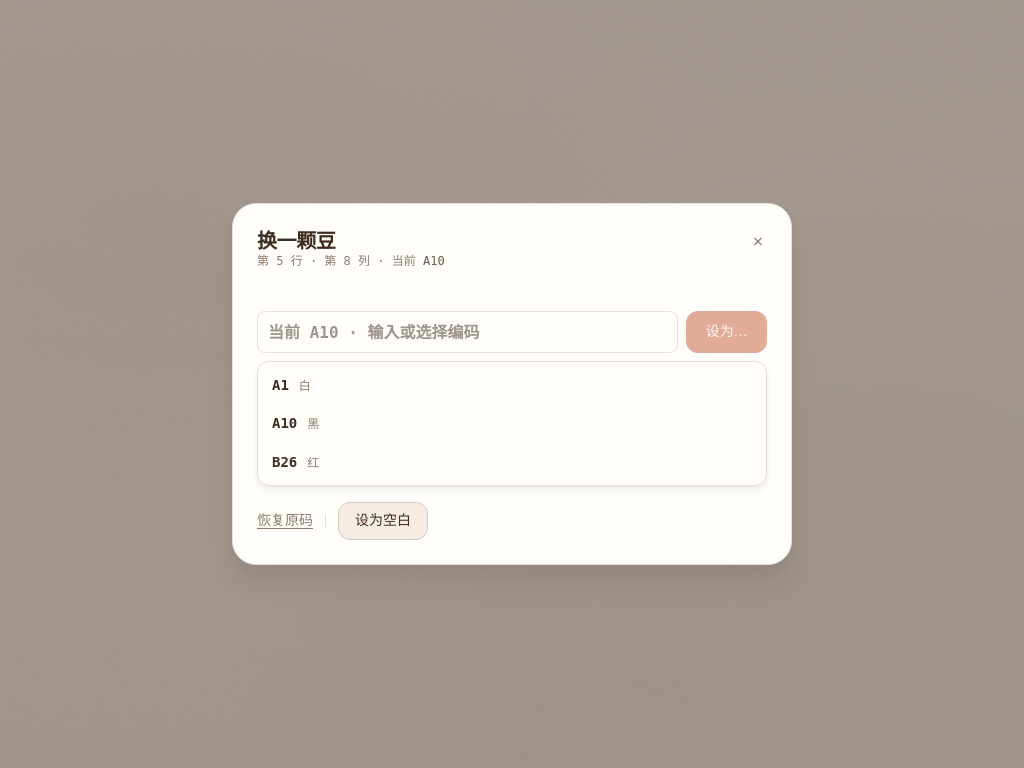
Test: CorrectionEditorModal 交互 › 输入过滤下拉候选（编码/名称子串）
Type "A1" into the field named "修正编码".
click(467, 332); type("A1")  # box left=257, top=311, right=678, bottom=353
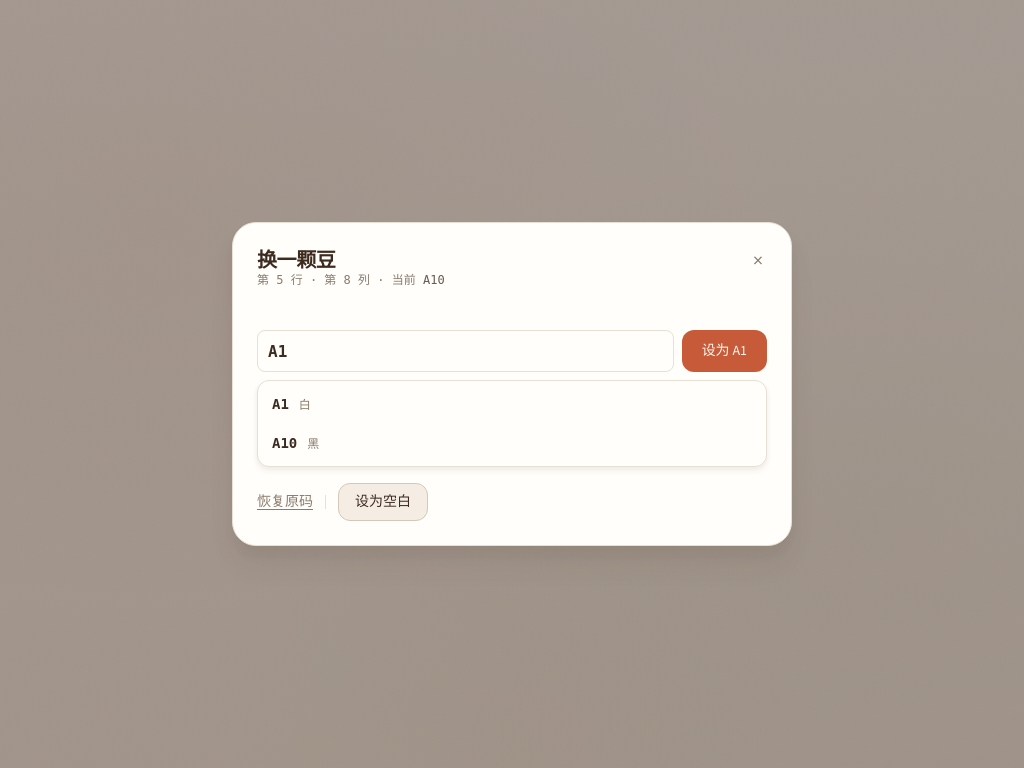
Check: the text "A1" is shown, box left=272, top=393, right=289, bottom=416
Check: the button "B26" is gone
